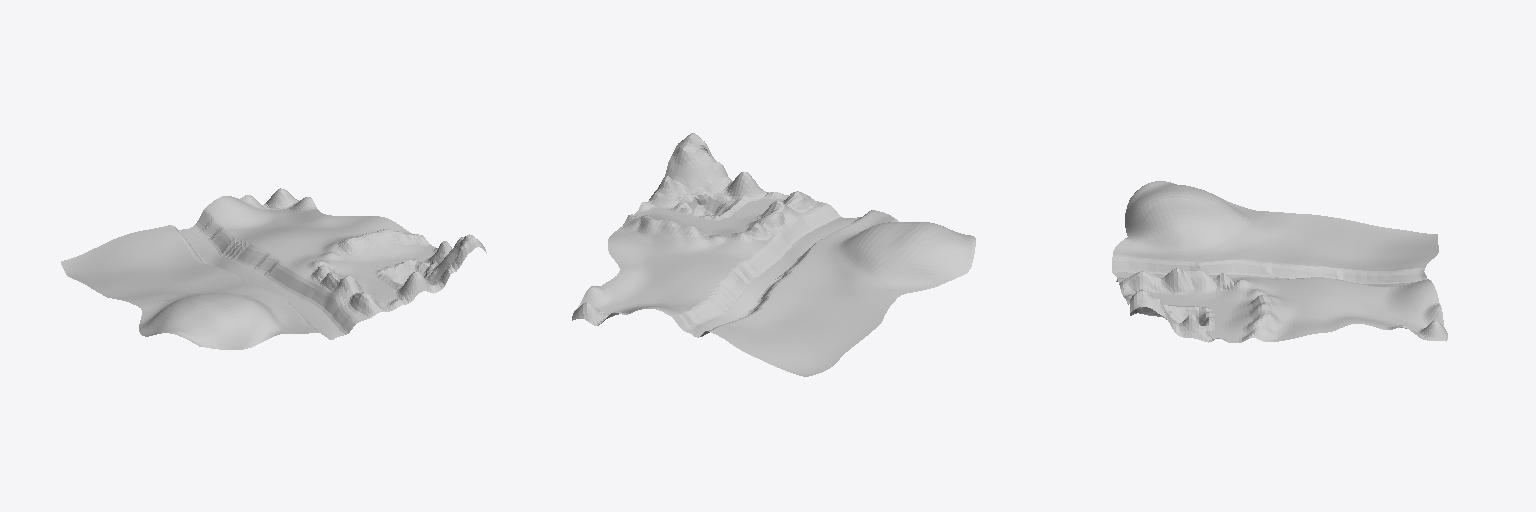
Rendered from Terrain.obj.
The picture shows the model from 3 angles: view 1: azimuth 30°, elevation 25°; view 2: azimuth 150°, elevation 25°; view 3: azimuth 270°, elevation 25°; orthographic projection.
Parts seen in each view (by area): view 1: pPlane7; view 2: pPlane7; view 3: pPlane7.
Part boxes in pixels (x1,y1,x2,y2): pPlane7: (61,188,486,349); pPlane7: (572,133,975,376); pPlane7: (1112,181,1447,342).
Size of the model in its own units: 253 by 56.04 by 235.